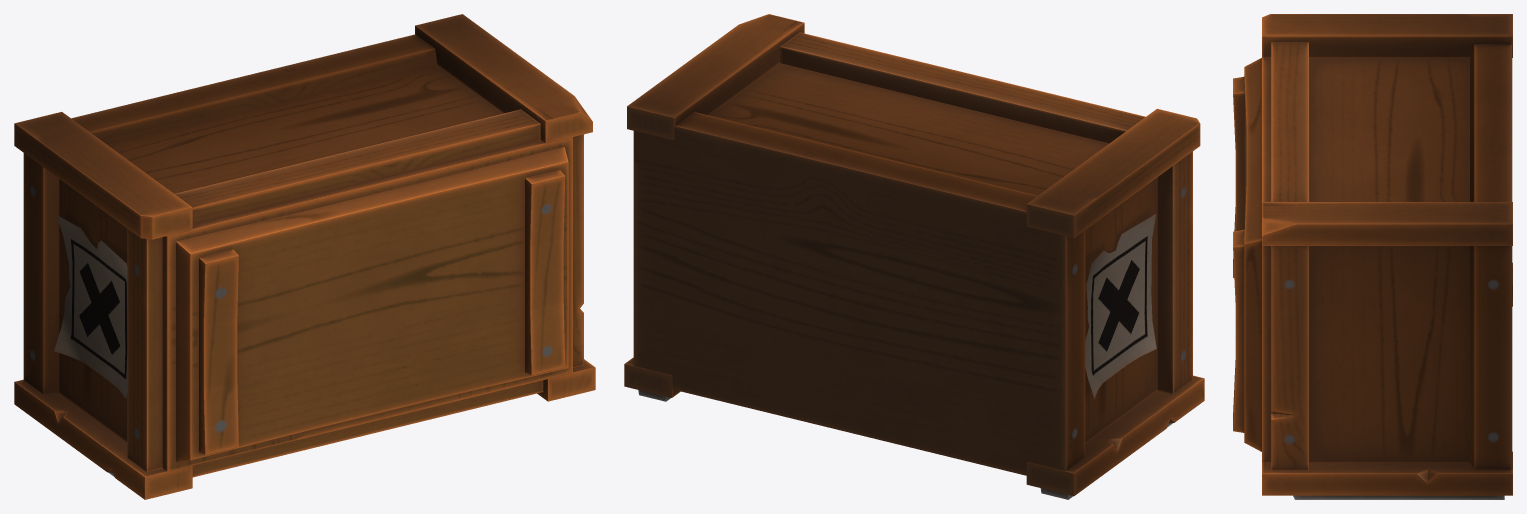
Rendered from cargo_box_stylized.fbx.
The picture shows the model from 3 angles, left to right: view 1: azimuth 30°, elevation 25°; view 2: azimuth 150°, elevation 25°; view 3: azimuth 270°, elevation 25°; orthographic projection. The views are drawn at different scales.
Visible parts, largest first — view 1: BoxStylized_low; view 2: BoxStylized_low; view 3: BoxStylized_low.
Boxes of the visible parts, bbox=[...] form: BoxStylized_low: bbox=[14, 14, 595, 499]; BoxStylized_low: bbox=[624, 14, 1204, 499]; BoxStylized_low: bbox=[1233, 14, 1512, 499].
Size of the model in its own units: 0.9995 by 0.6159 by 0.5593.
Materials: 1 (1 with a texture image).
